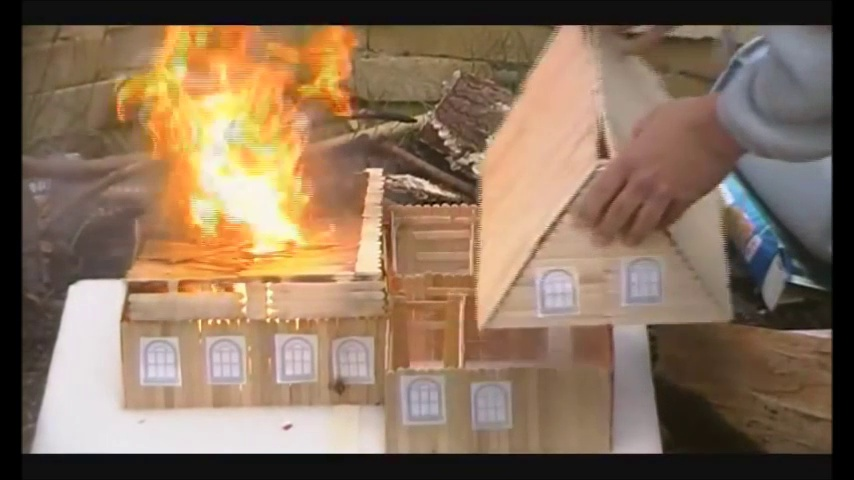fire: (129, 26, 358, 255)
